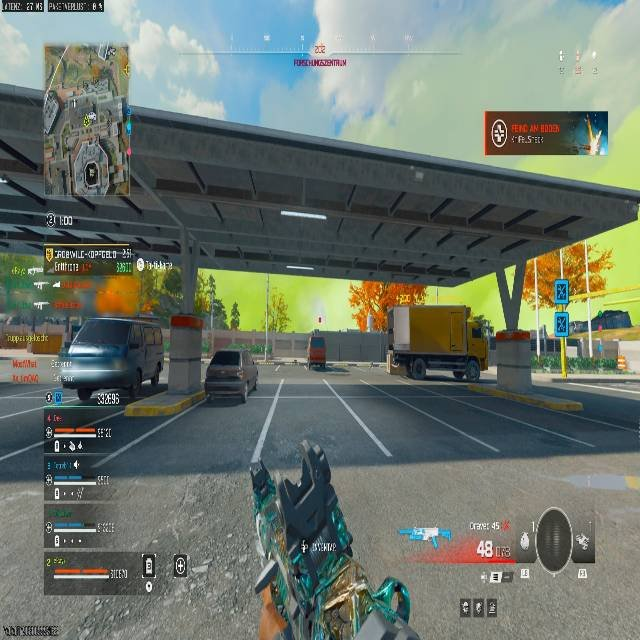player: (150, 360, 162, 385), (134, 365, 144, 388)
